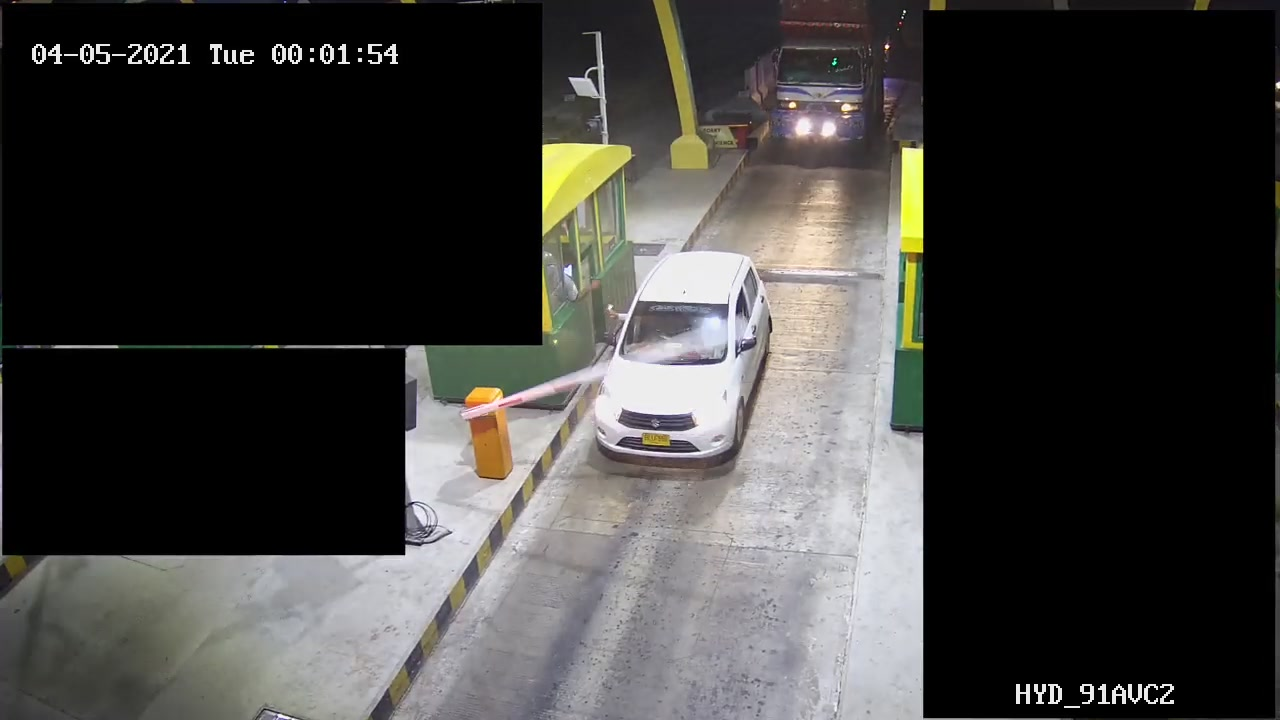F1: (590, 244, 777, 468)
